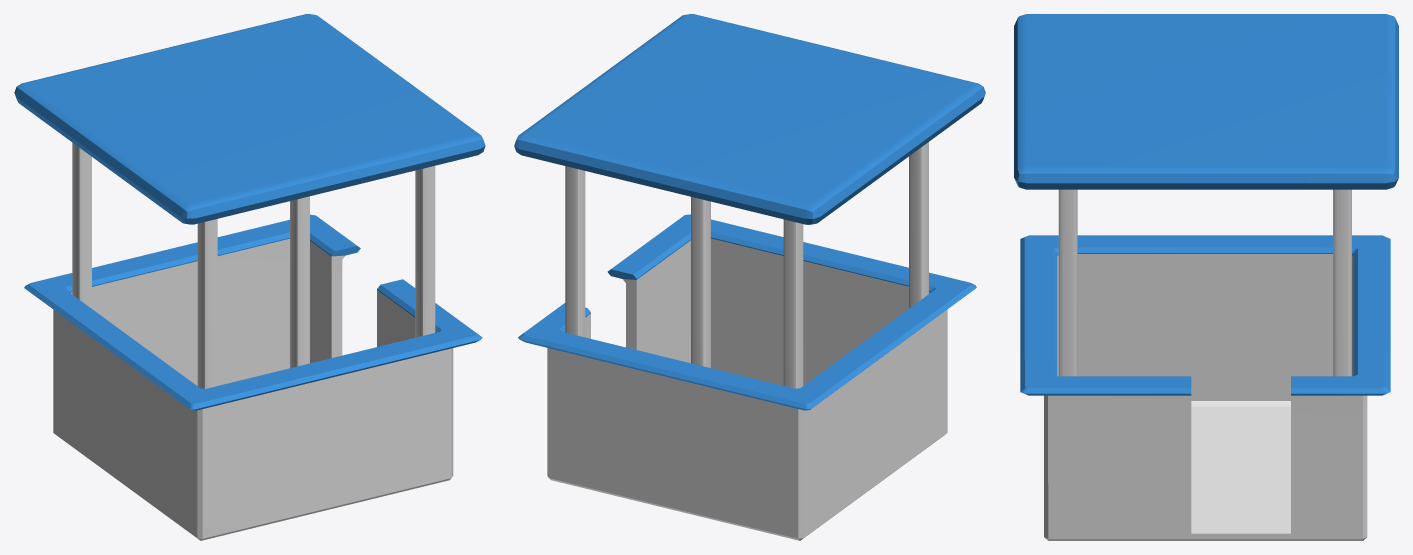
File: Guvenlık.fbx
The picture shows the model from 3 angles, left to right: view 1: azimuth 30°, elevation 25°; view 2: azimuth 150°, elevation 25°; view 3: azimuth 270°, elevation 25°; orthographic projection. The views are drawn at different scales.
Visible parts, largest first — view 1: Güvenlik; view 2: Güvenlik; view 3: Güvenlik.
Part boxes in pixels (x1=…): Güvenlik: x1=14, y1=14, x2=485, y2=540; Güvenlik: x1=514, y1=14, x2=985, y2=540; Güvenlik: x1=1014, y1=14, x2=1398, y2=540.
Bounding box in the file's own units: 203 × 223 × 203.
